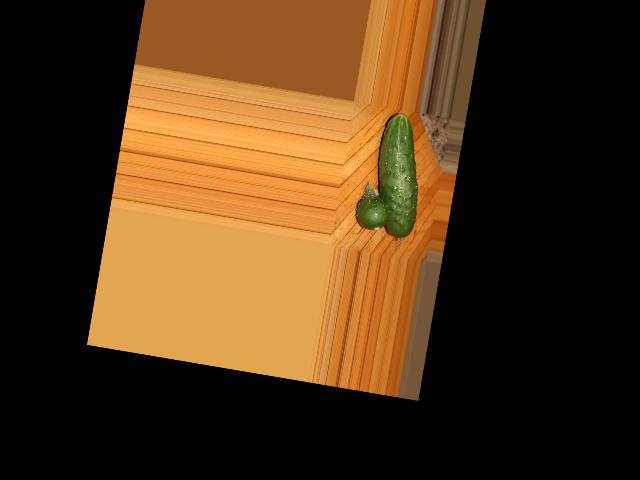cucumber: (365, 110, 432, 240)
